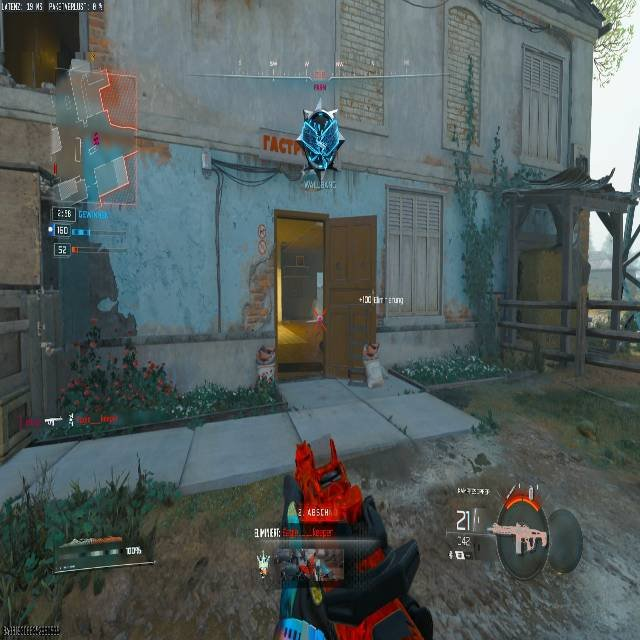player: (298, 107, 341, 189), (254, 344, 274, 385)
